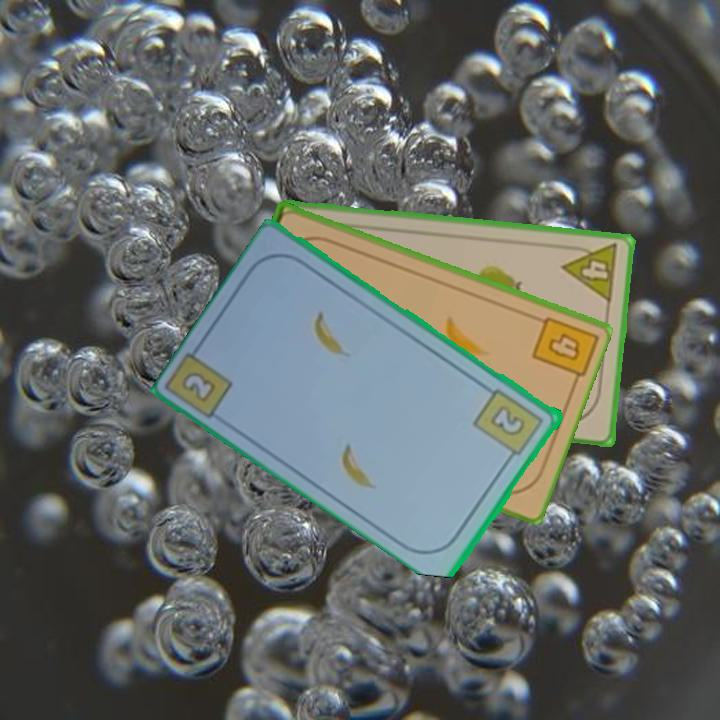2b: (471, 385, 547, 465), (178, 367, 220, 405)
4b: (544, 328, 584, 364)
4p: (559, 240, 622, 306)
